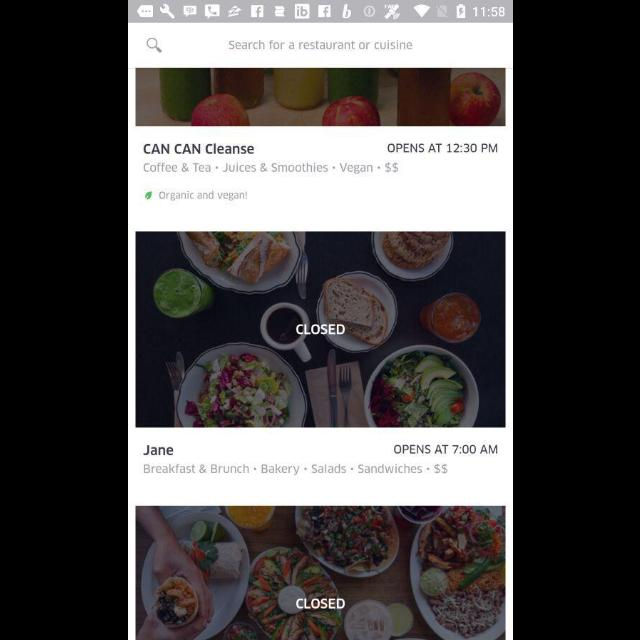icon: (144, 38, 162, 54)
image: (135, 232, 505, 428), (136, 506, 504, 640), (136, 67, 504, 126)
text: (144, 463, 446, 475), (142, 163, 398, 175), (228, 40, 412, 50), (142, 143, 254, 155), (387, 143, 497, 153), (393, 444, 497, 454), (144, 192, 232, 202), (296, 597, 344, 609), (296, 323, 344, 335), (143, 444, 173, 456)
uppertaskbar: (128, 1, 512, 23)
